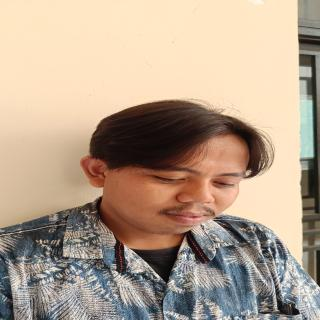Sedih: (108, 132, 256, 241)
